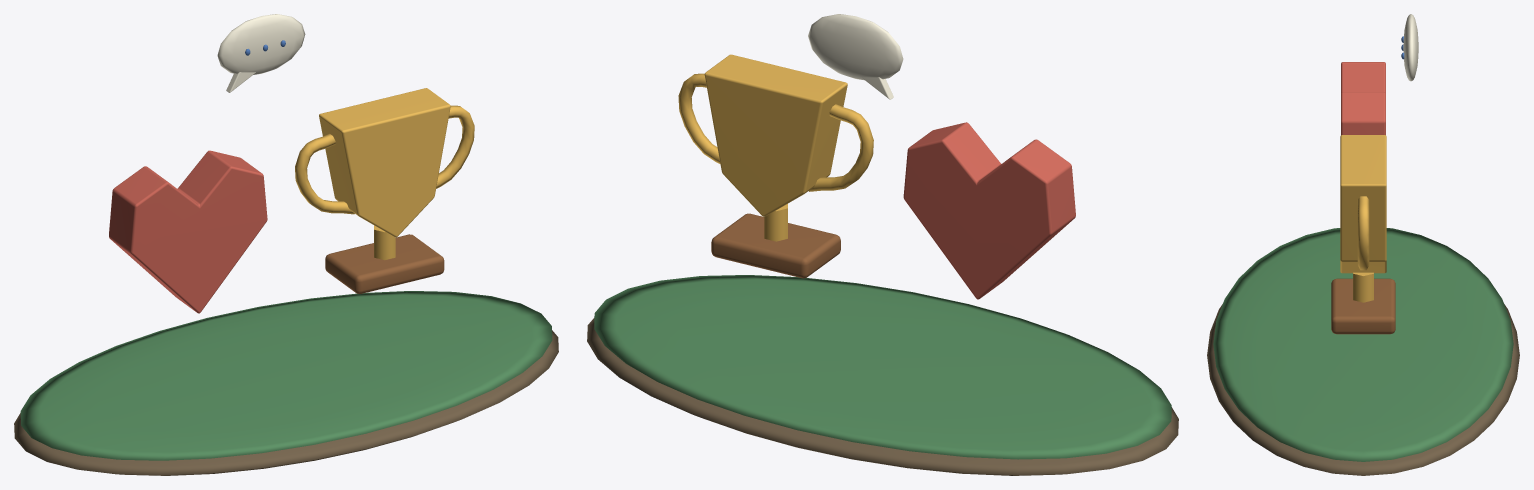
Rendered from complete-third-well-wished-prize.glb.
3 views of the same model, side by side, from view 1: azimuth 30°, elevation 25°; view 2: azimuth 150°, elevation 25°; view 3: azimuth 270°, elevation 25° (orthographic). The views are drawn at different scales.
Visible parts, largest first — view 1: complete-third-well-wished-prize_surface_01, complete-third-well-wished-prize_surface_03, complete-third-well-wished-prize_surface_02, complete-third-well-wished-prize_surface_00, complete-third-well-wished-prize_surface_04, complete-third-well-wished-prize_surface_05; view 2: complete-third-well-wished-prize_surface_01, complete-third-well-wished-prize_surface_03, complete-third-well-wished-prize_surface_02, complete-third-well-wished-prize_surface_00, complete-third-well-wished-prize_surface_04, complete-third-well-wished-prize_surface_05; view 3: complete-third-well-wished-prize_surface_01, complete-third-well-wished-prize_surface_03, complete-third-well-wished-prize_surface_00, complete-third-well-wished-prize_surface_02, complete-third-well-wished-prize_surface_04, complete-third-well-wished-prize_surface_05.
Boxes of the visible parts, x1,y1,x2,y2 form: complete-third-well-wished-prize_surface_01: [20, 291, 552, 460]; complete-third-well-wished-prize_surface_03: [295, 88, 474, 260]; complete-third-well-wished-prize_surface_02: [109, 150, 267, 313]; complete-third-well-wished-prize_surface_00: [14, 330, 558, 475]; complete-third-well-wished-prize_surface_04: [325, 234, 444, 293]; complete-third-well-wished-prize_surface_05: [217, 14, 305, 92]; complete-third-well-wished-prize_surface_01: [594, 275, 1171, 459]; complete-third-well-wished-prize_surface_03: [678, 54, 873, 241]; complete-third-well-wished-prize_surface_02: [903, 122, 1075, 299]; complete-third-well-wished-prize_surface_00: [587, 318, 1178, 475]; complete-third-well-wished-prize_surface_04: [711, 213, 840, 278]; complete-third-well-wished-prize_surface_05: [808, 14, 903, 99]; complete-third-well-wished-prize_surface_01: [1213, 228, 1513, 461]; complete-third-well-wished-prize_surface_03: [1340, 135, 1386, 302]; complete-third-well-wished-prize_surface_00: [1207, 304, 1519, 475]; complete-third-well-wished-prize_surface_02: [1341, 62, 1385, 134]; complete-third-well-wished-prize_surface_04: [1331, 278, 1395, 334]; complete-third-well-wished-prize_surface_05: [1403, 14, 1418, 81].
Size of the model in its own units: 4.56 by 3.08 by 2.5.
